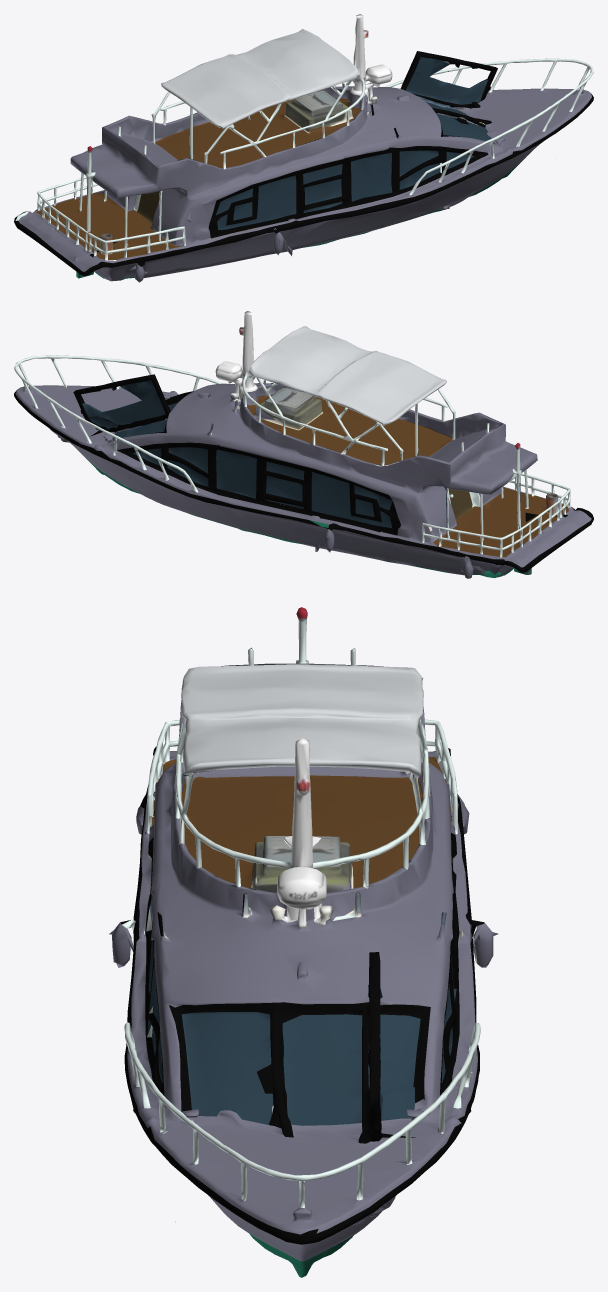
File: final-boat.glb
3 renders of one model, top to bottom at view 1: azimuth 30°, elevation 25°; view 2: azimuth 150°, elevation 25°; view 3: azimuth 270°, elevation 25°, orthographic. The views are drawn at different scales.
Parts seen in each view (by area): view 1: tripo_node_a39e3661-099f-4dfd-be06-26e35b15228d; view 2: tripo_node_a39e3661-099f-4dfd-be06-26e35b15228d; view 3: tripo_node_a39e3661-099f-4dfd-be06-26e35b15228d.
Part boxes in pixels (box(x1,y1,x2,y2)): tripo_node_a39e3661-099f-4dfd-be06-26e35b15228d: box(14, 14, 593, 282); tripo_node_a39e3661-099f-4dfd-be06-26e35b15228d: box(14, 311, 593, 578); tripo_node_a39e3661-099f-4dfd-be06-26e35b15228d: box(109, 607, 498, 1277).
Size of the model in its own units: 1.9 by 0.666 by 0.5891.
Materials: 9 (1 with a texture image).
